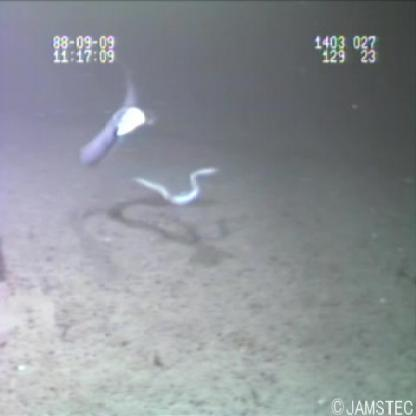Bio: (73, 63, 160, 176), (128, 162, 222, 212)
